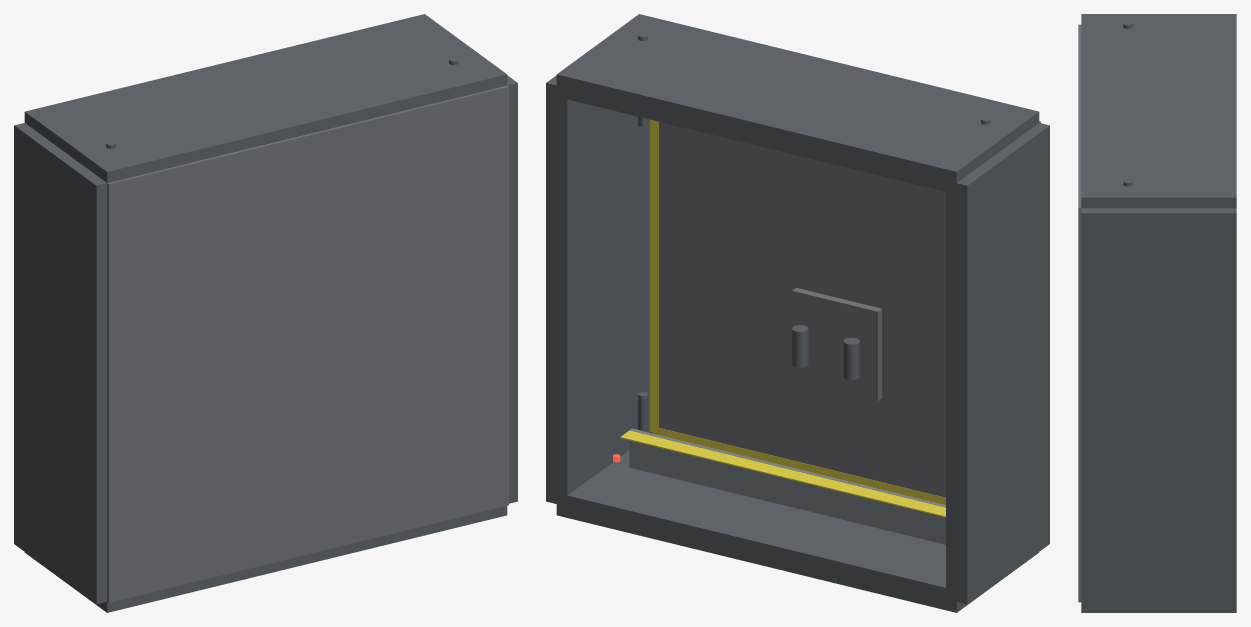
Rendered from boss_arena.glb.
3 views of the same model, side by side, from view 1: azimuth 30°, elevation 25°; view 2: azimuth 150°, elevation 25°; view 3: azimuth 270°, elevation 25° (orthographic). The views are drawn at different scales.
Parts seen in each view (by area): view 1: Boss_Arena_Containment_Vault; view 2: Boss_Arena_Containment_Vault; view 3: Boss_Arena_Containment_Vault.
Boxes of the visible parts, x1,y1,x2,y2 form: Boss_Arena_Containment_Vault: (14,14,517,612); Boss_Arena_Containment_Vault: (546,14,1049,612); Boss_Arena_Containment_Vault: (1078,14,1236,612).
Size of the model in its own units: 29.5 by 30 by 10.2.
